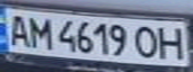1: (90, 20, 112, 55)
4: (51, 16, 78, 52)
6: (75, 19, 93, 54)
9: (109, 21, 133, 57)
A: (3, 11, 33, 47)
H: (154, 24, 190, 61)
M: (24, 14, 54, 50)
O: (130, 24, 163, 60)
